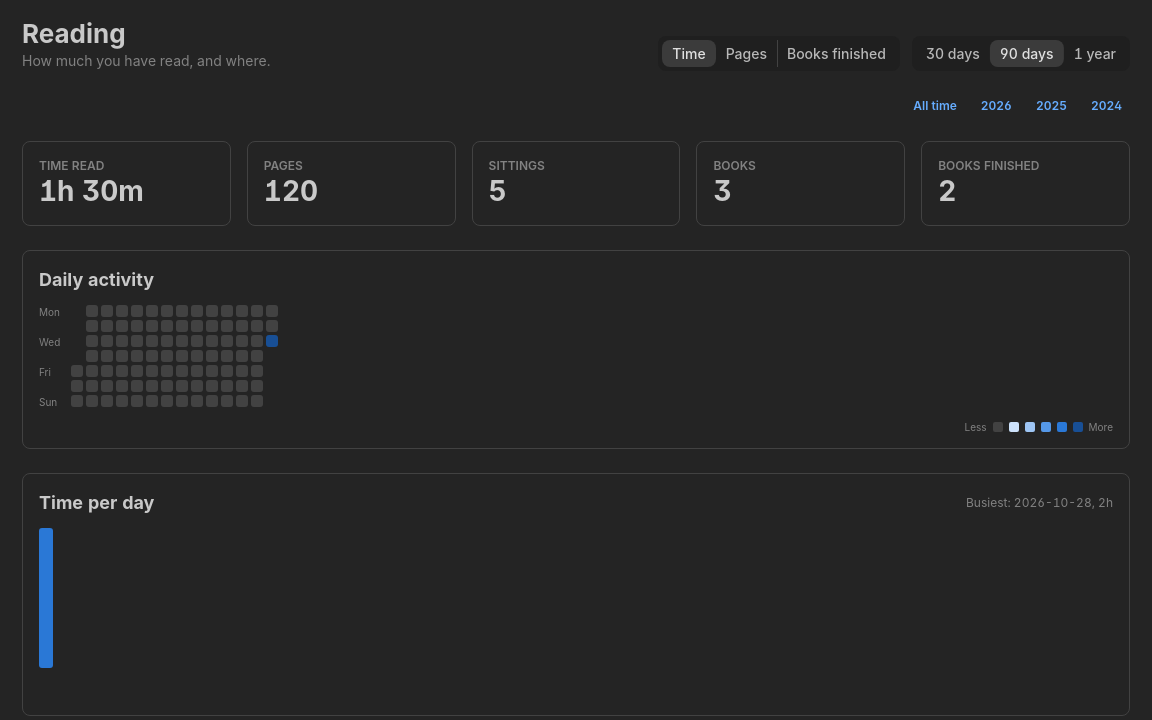
Scenario: ReadingStats › names the period chart after the metric it draws
The image size is (1152, 720).
Check: the heading "Time per day" is shown, box [39,490,154,516]
Click the radio button labelled "Books finished". click: (836, 53)
box: [787,45,886,62]
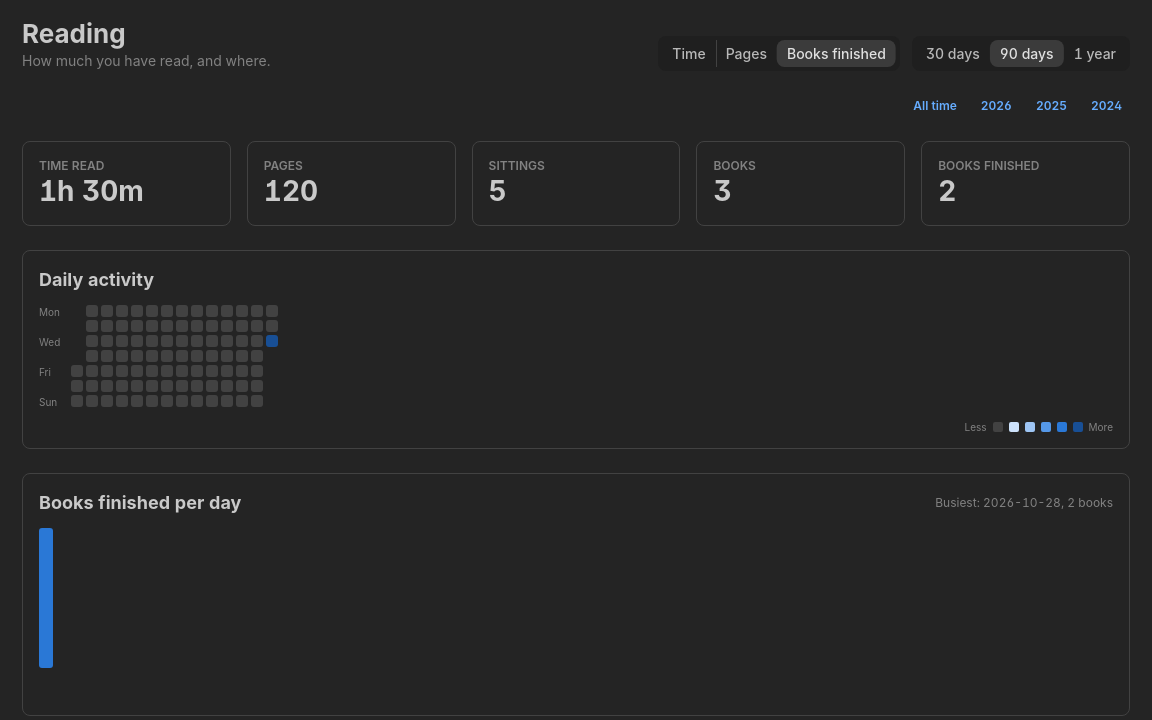
Check: the heading "Books finished per day" is shown, box [39,490,241,516]
Check: the heading "Time per day" is gone
